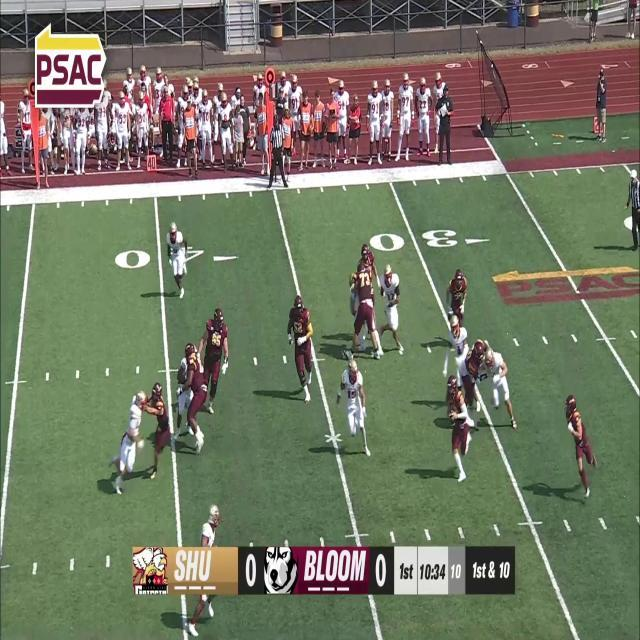football: (449, 411, 457, 429)
